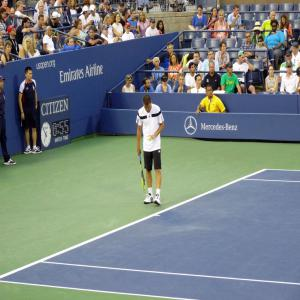TennisBall: (149, 137, 153, 141)
